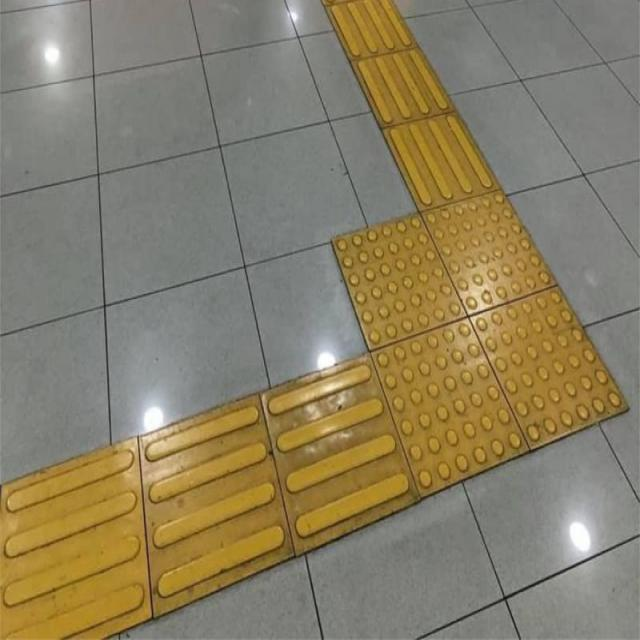tactile-guide-path: (0, 352, 422, 639), (333, 187, 631, 496), (324, 0, 500, 207)
